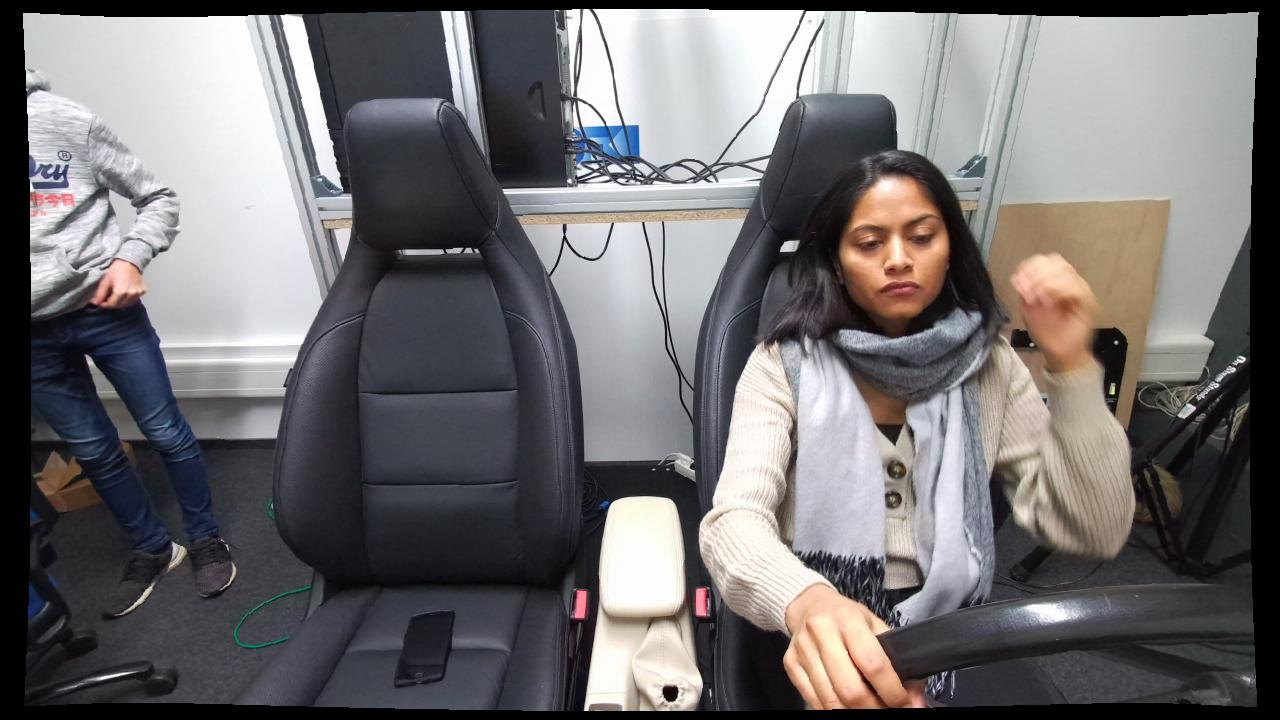Distracted: (696, 147, 1136, 702)
PhoneUse: (395, 610, 452, 687)
